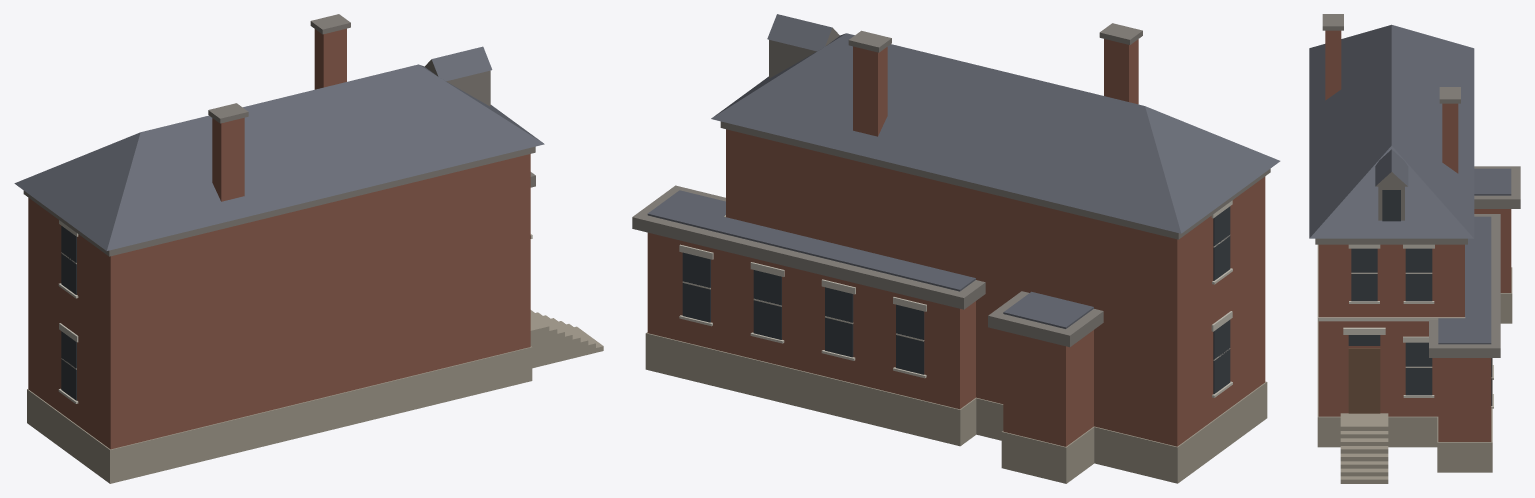
File: house_1833_indiana__draft_1904.glb
The picture shows the model from 3 angles, left to right: view 1: azimuth 30°, elevation 25°; view 2: azimuth 150°, elevation 25°; view 3: azimuth 270°, elevation 25°; orthographic projection. The views are drawn at different scales.
Visible parts, largest first — view 1: house_1833_indiana__draft_1904; view 2: house_1833_indiana__draft_1904; view 3: house_1833_indiana__draft_1904.
Boxes of the visible parts, x1,y1,x2,y2 form: house_1833_indiana__draft_1904: (14, 14, 603, 483); house_1833_indiana__draft_1904: (632, 14, 1280, 483); house_1833_indiana__draft_1904: (1309, 14, 1520, 483).
Size of the model in its own units: 19.9 by 12.4 by 7.95.
